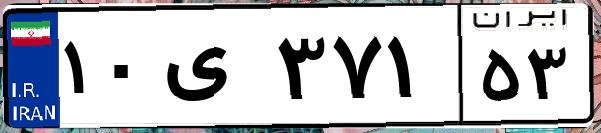0: (110, 28, 158, 98)
1: (385, 28, 445, 110), (57, 26, 110, 100)
3: (270, 28, 330, 110), (525, 38, 570, 115)
5: (475, 38, 525, 113)
7: (330, 28, 385, 110)
ی: (158, 20, 270, 120)
